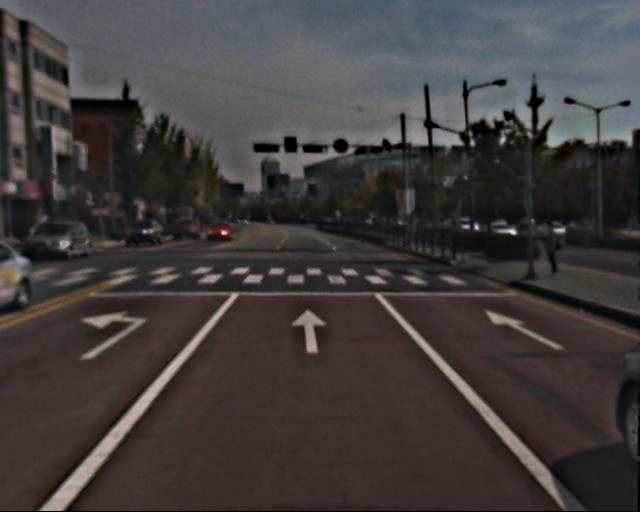person: (536, 219, 562, 281)
